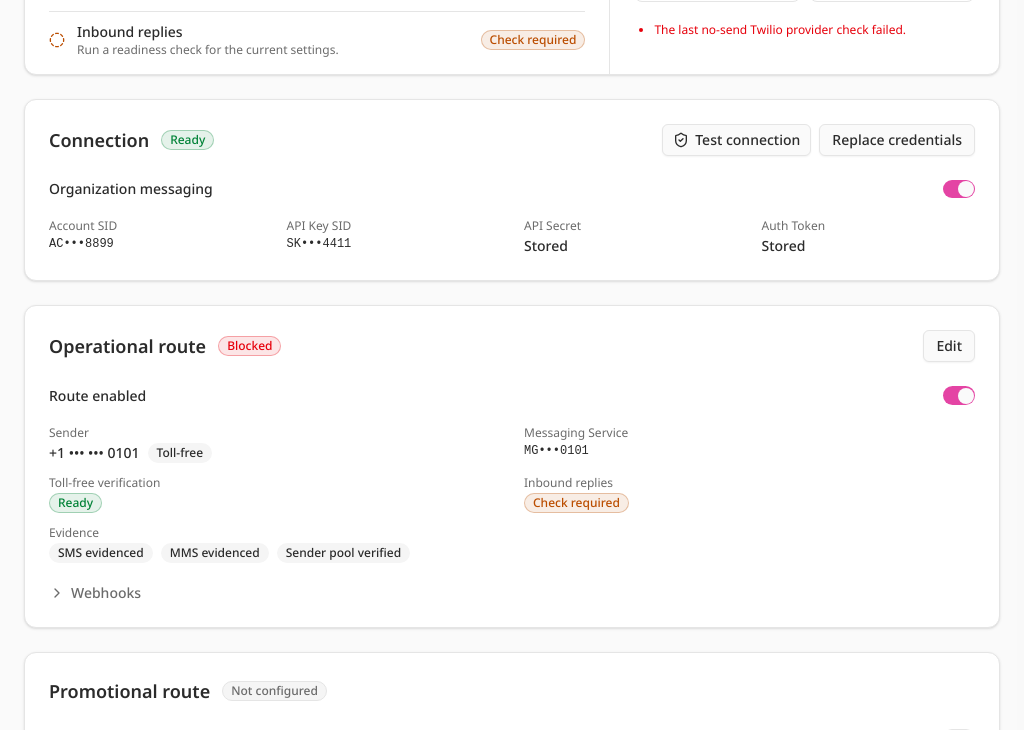
Test case: Messaging integration settings page › discards unsaved changes and closes open editors
(page scrolled)
Click the button with aria-label "Edit operational route" at [949, 346], box [923,330,975,362]
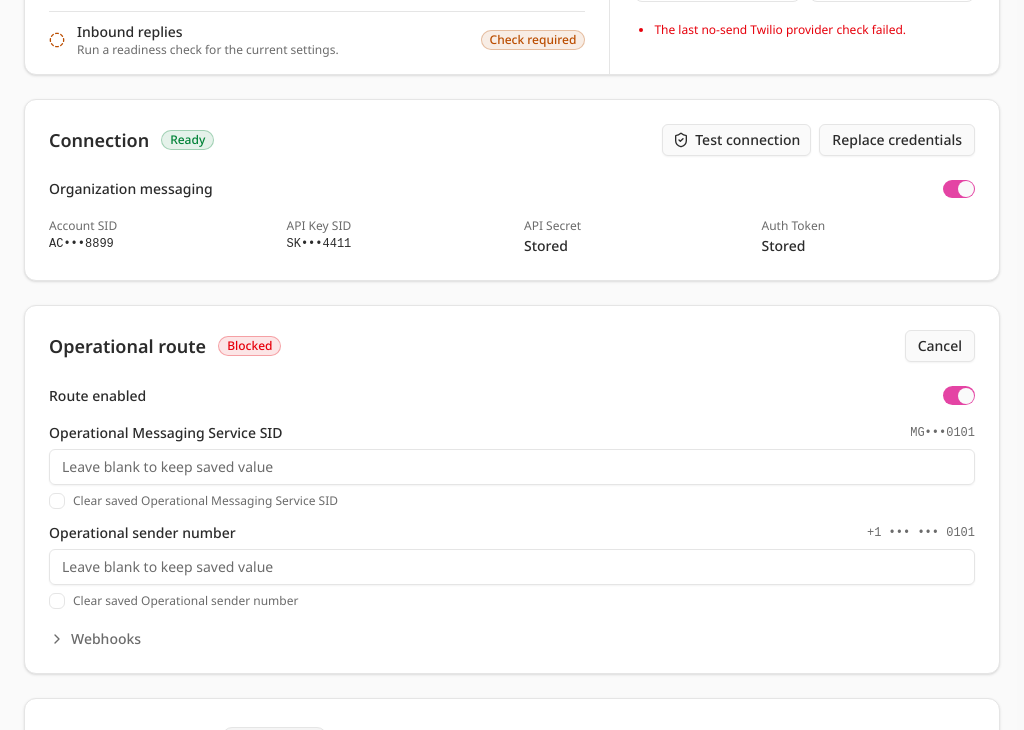
Type "+14155550199" into the field labelled "Operational sender number" at [512, 567], box [49,549,975,585]
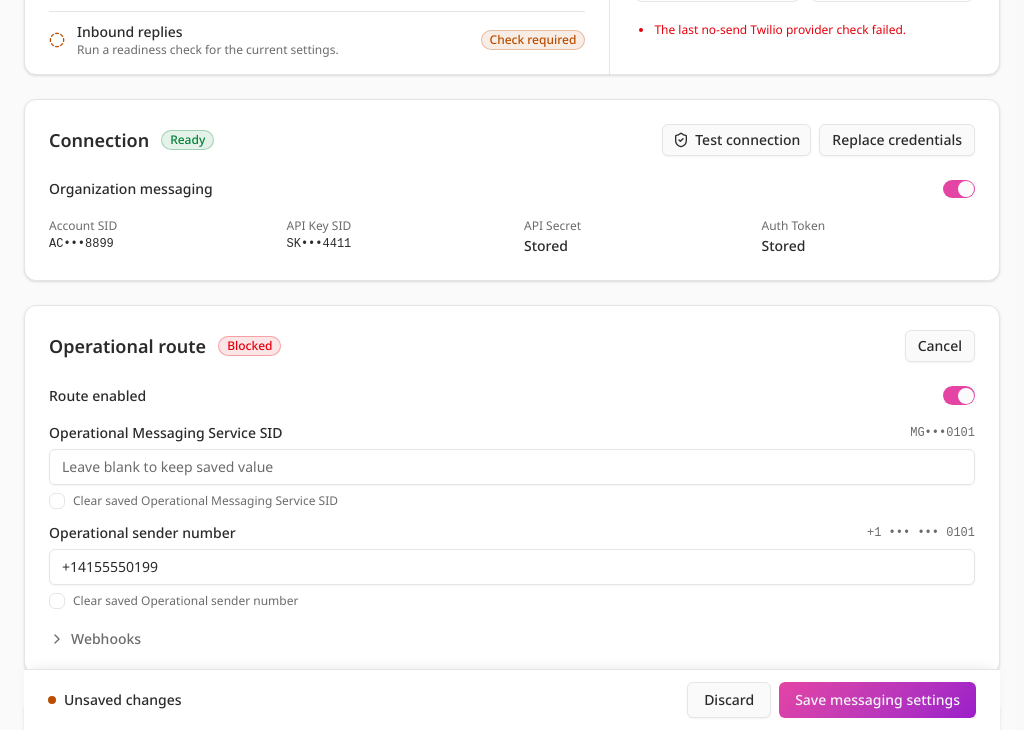
Result: the element "Unsaved changes" is shown at [24,669,1000,729]
Click the button "Discard" at [729, 700], box [687,682,771,718]
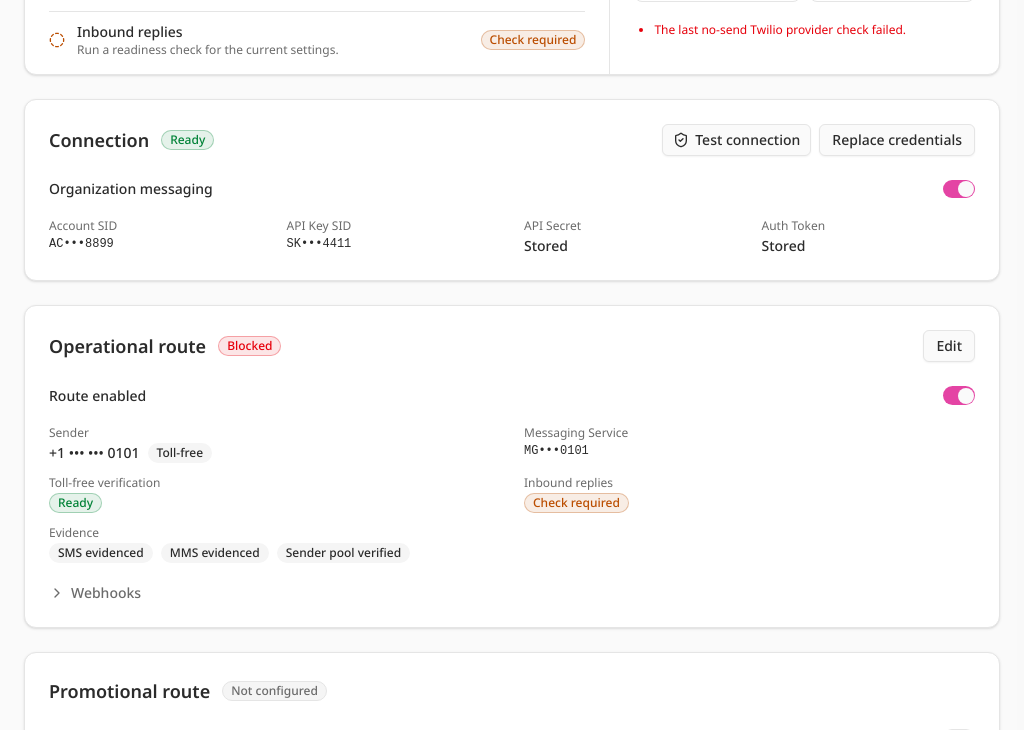
Result: the element "Unsaved changes" is gone
Result: the label labelled "Operational sender number" is gone
